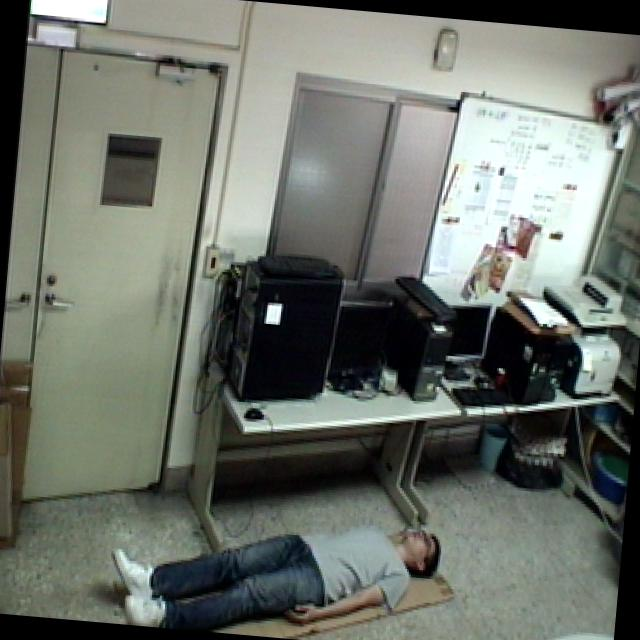lie: (103, 476, 450, 640)
